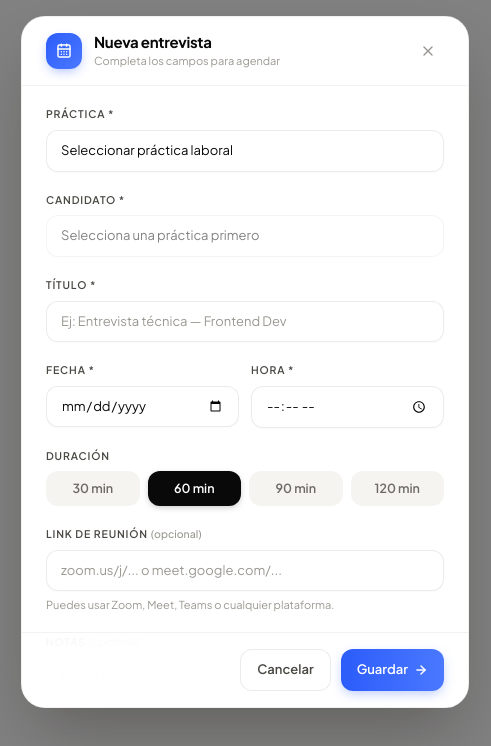
InterviewFormModal › validaciones del submit › error si el candidato no tiene conversación activa
Select "Backend Intern" in the dropdown labelled "Práctica *". click: (245, 151)
box: [46,130,444,172]
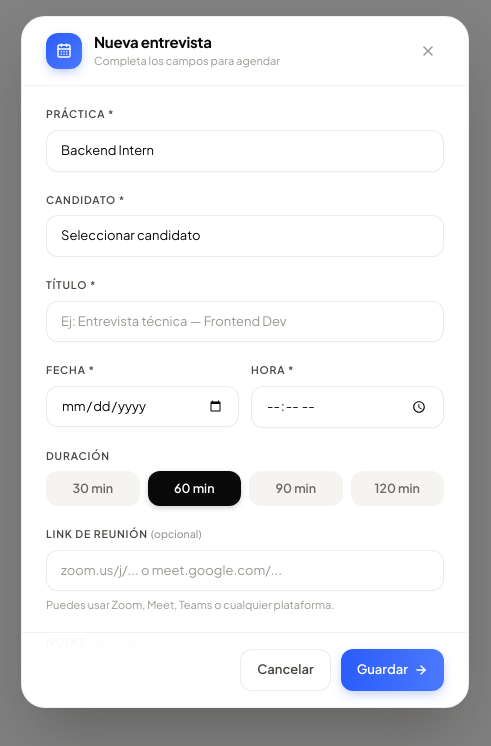
Select "Juan Pérez (sin chat activo)" in the dropdown labelled "Candidato *". click: (245, 236)
box: [46,215,444,257]
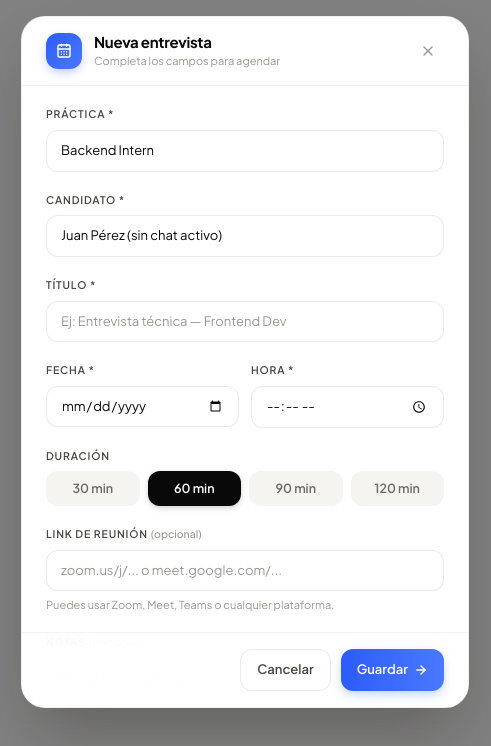
Click the button "Guardar". click: (392, 670)
box: [341,649,444,691]
(page scrolled)
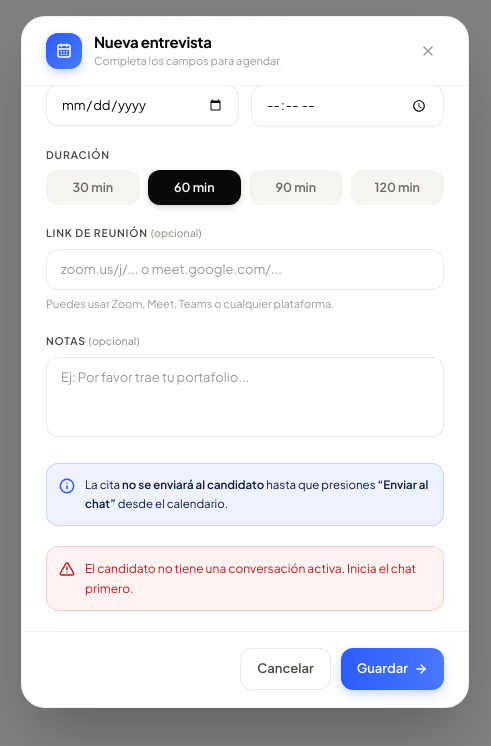
Check: the text "no tiene una conversación activa" is shown, box [85,561,416,596]
